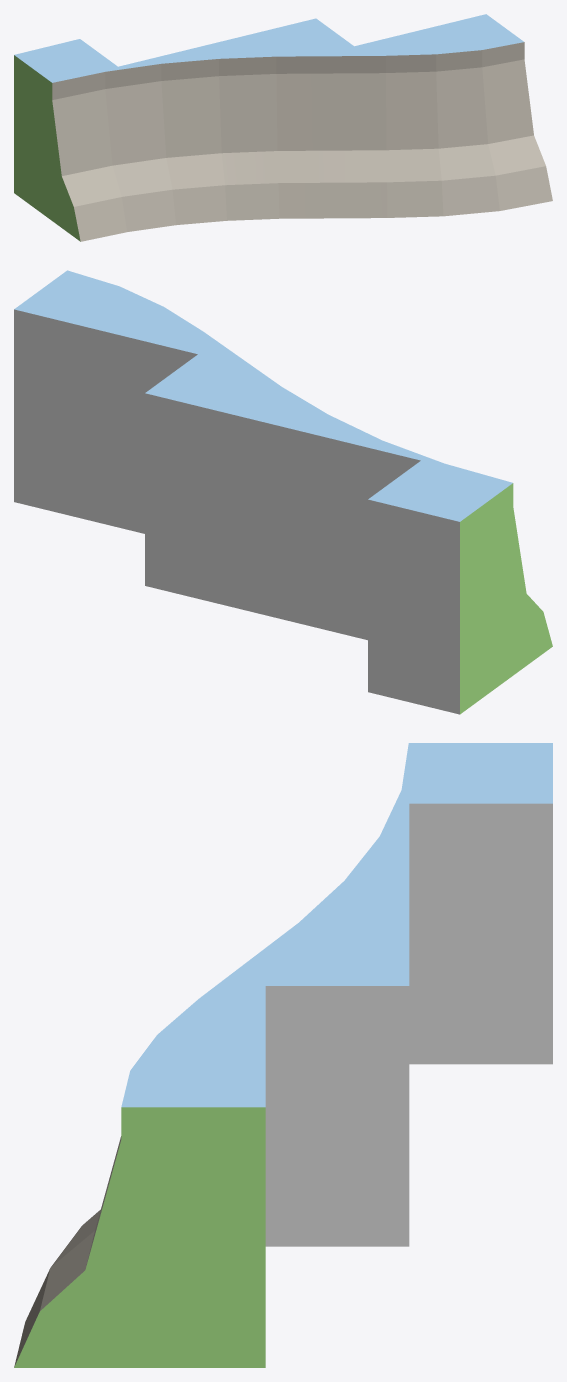
File: Wall_Esse_4x6_Base.glb
The picture shows the model from 3 angles, top to bottom: view 1: azimuth 30°, elevation 25°; view 2: azimuth 150°, elevation 25°; view 3: azimuth 270°, elevation 25°; orthographic projection. The views are drawn at different scales.
Visible parts, largest first — view 1: Wall_Esse_4x6_Base; view 2: Wall_Esse_4x6_Base; view 3: Wall_Esse_4x6_Base.
Boxes of the visible parts, x1,y1,x2,y2 form: Wall_Esse_4x6_Base: (14,14,552,241); Wall_Esse_4x6_Base: (14,270,552,714); Wall_Esse_4x6_Base: (14,743,552,1367).
Size of the model in its own units: 600 by 200 by 375.
